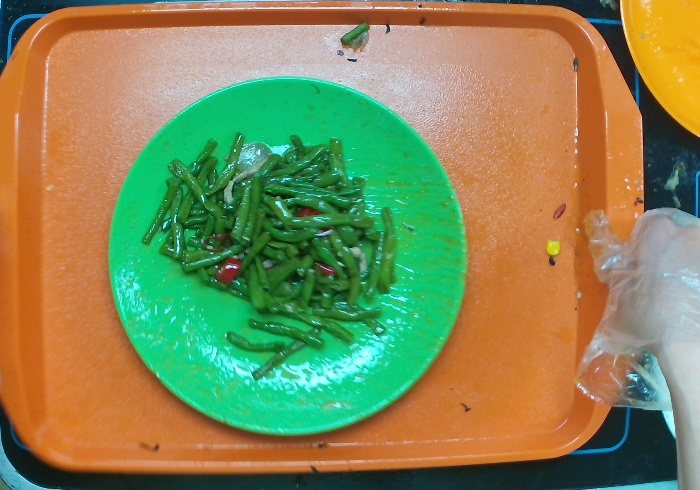HZYJPL-Lv_Se_Yuan_Pan: (99, 71, 473, 441)
